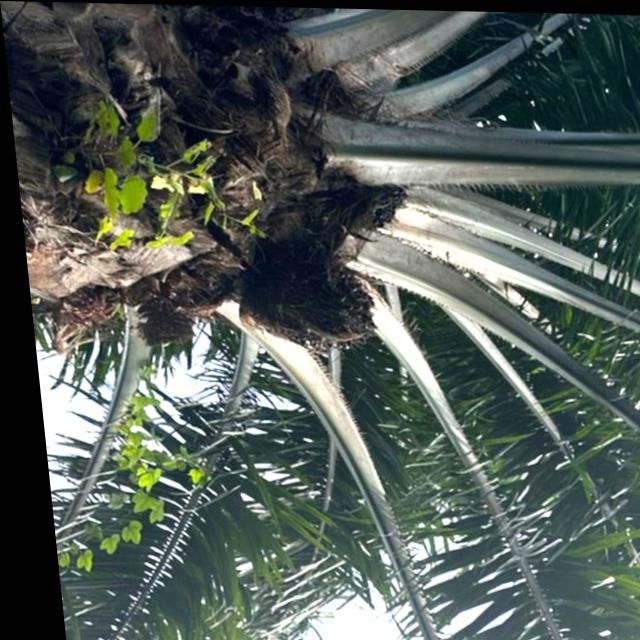ripe: (245, 223, 383, 358)
